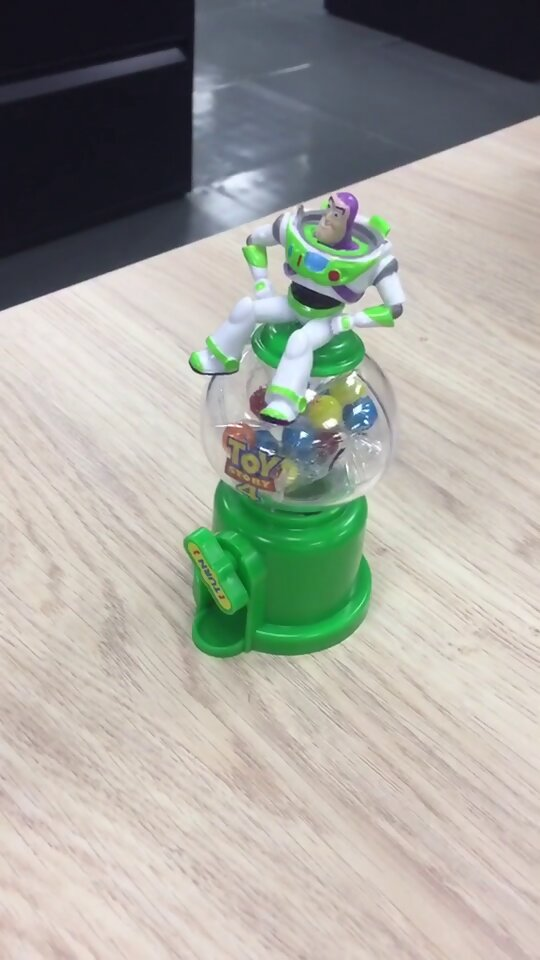buzz: (182, 180, 412, 664)
